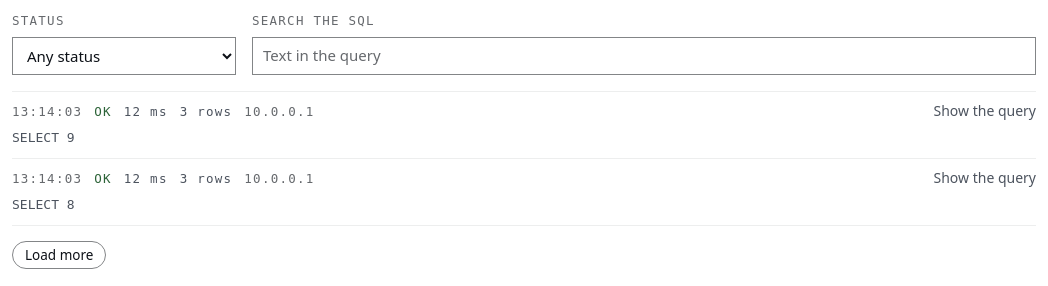
Test: the queries tab › filters by status
Select "error" in the dropdown labelled "Status" at (124, 56), box [12,37,236,75]
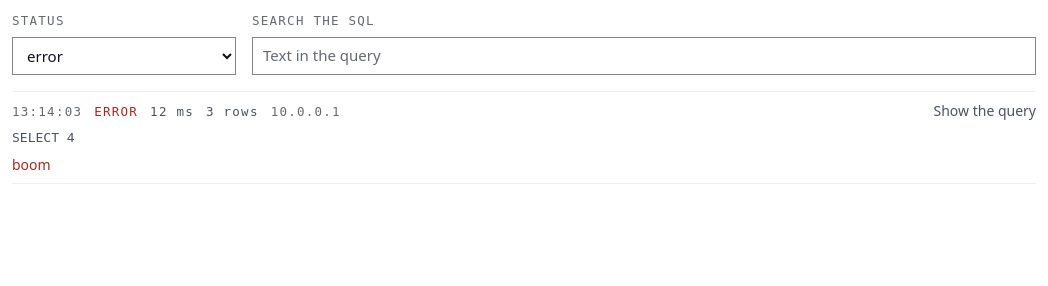
Check: the button "Load more" is not shown
Check: the text "boom" is shown, box [12,154,51,174]
